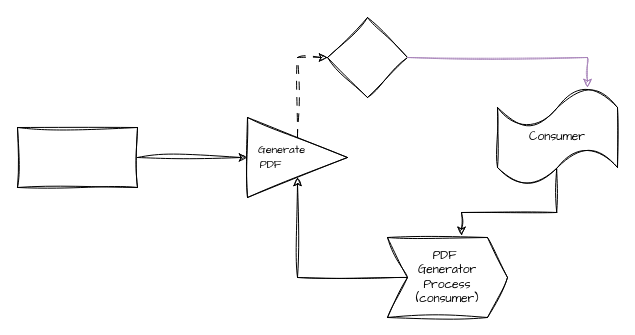
The diagram is 635 pixels wide and 335 high, and some of its shapes have lost their labels. The centre of each missing label's shape, as x and y in pixels:
"Main Server" goes at pixel 77 157.
"Queue" goes at pixel 367 57.
